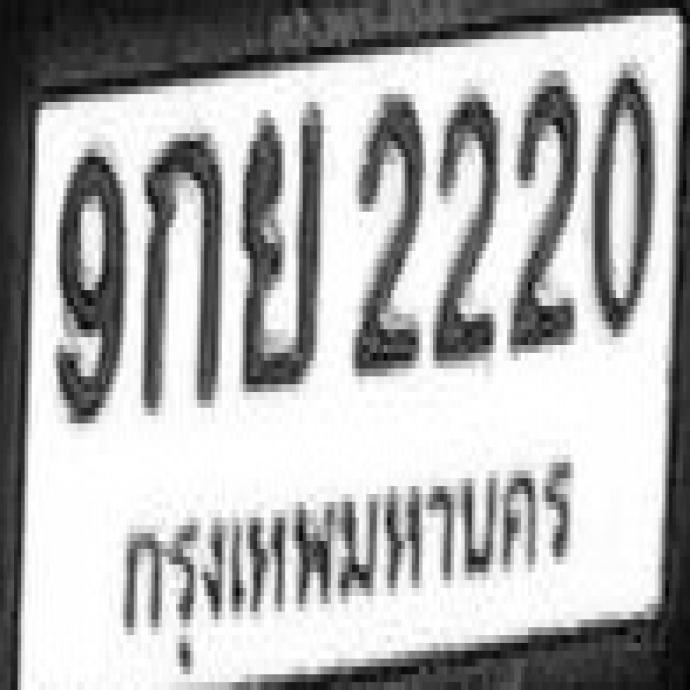0: (589, 60, 650, 329)
2: (348, 88, 418, 366), (506, 70, 573, 343), (429, 86, 495, 357)
9: (52, 142, 121, 416)
A01: (139, 125, 218, 406)
A34: (238, 97, 320, 385)
BKK: (108, 442, 587, 644)
